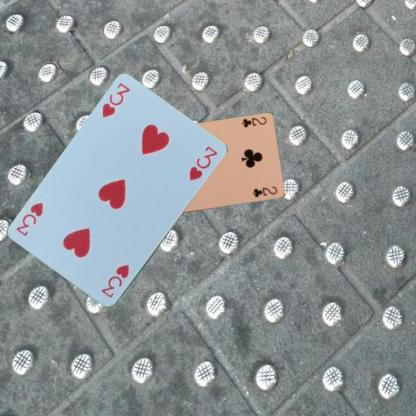2c: (238, 114, 268, 129)
3h: (99, 80, 132, 119), (99, 262, 131, 300)
